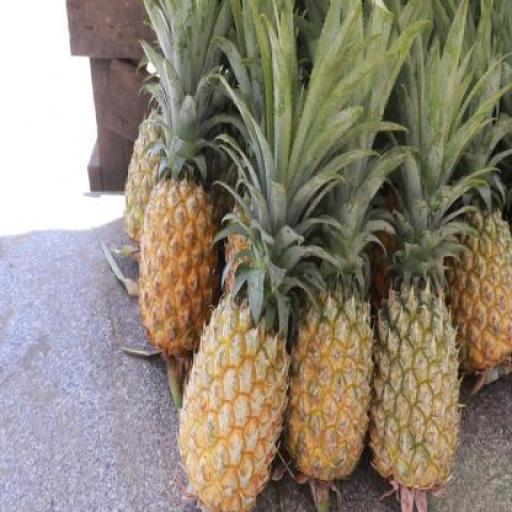------------------------------: (368, 284, 458, 489)
Pineapple - v8 v1: (178, 301, 284, 509), (282, 296, 370, 488), (138, 173, 215, 360), (449, 218, 511, 374)
